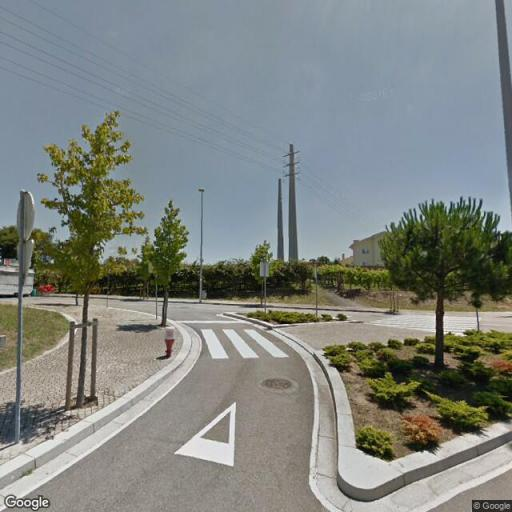mono_9: (283, 141, 305, 261)
